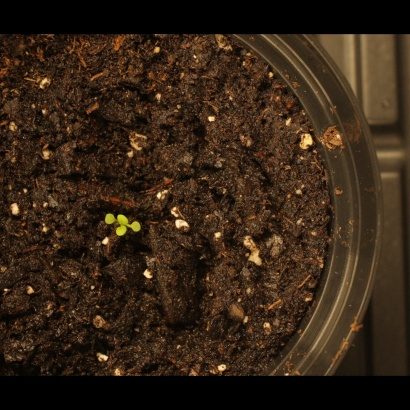leaf: (130, 218, 153, 241), (93, 211, 116, 234), (114, 201, 137, 224), (109, 225, 132, 248)
